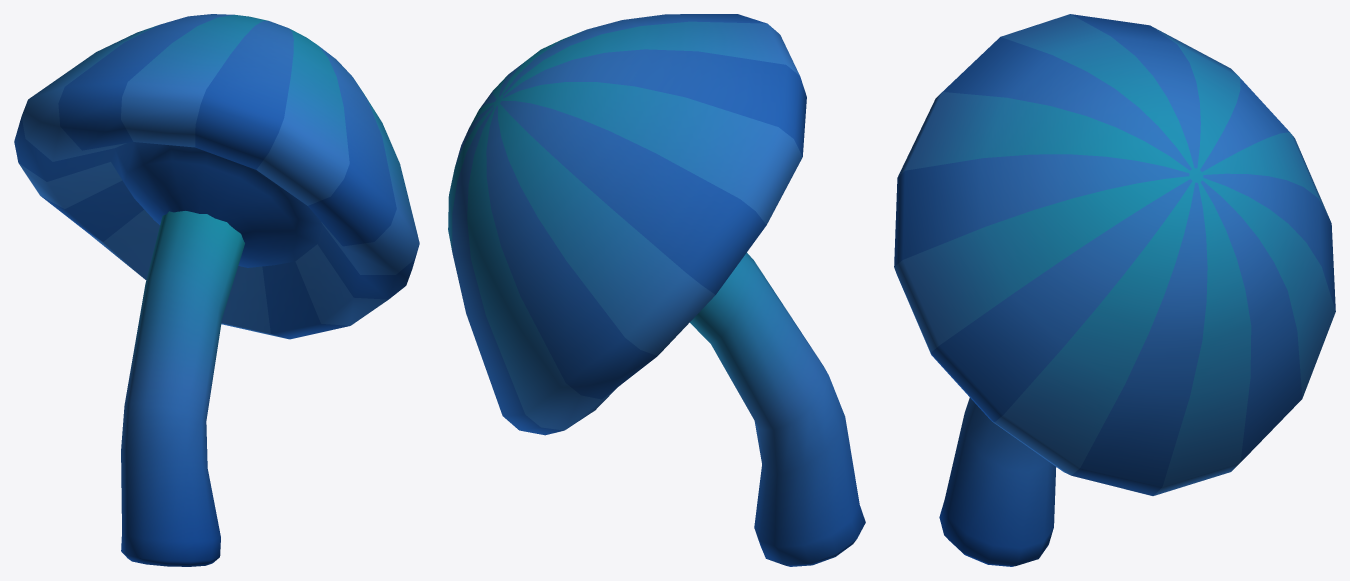
File: Fungus-2-2.fbx
3 views of the same model, side by side, from view 1: azimuth 30°, elevation 25°; view 2: azimuth 150°, elevation 25°; view 3: azimuth 270°, elevation 25° (orthographic). The views are drawn at different scales.
Parts seen in each view (by area): view 1: Fungus-2-2; view 2: Fungus-2-2; view 3: Fungus-2-2.
Boxes of the visible parts, left/top/right/bottom form: Fungus-2-2: left=14, top=14, right=419, bottom=566; Fungus-2-2: left=448, top=14, right=865, bottom=566; Fungus-2-2: left=894, top=14, right=1335, bottom=566.
Bounding box in the file's own units: 47.2 × 70.51 × 51.88.
